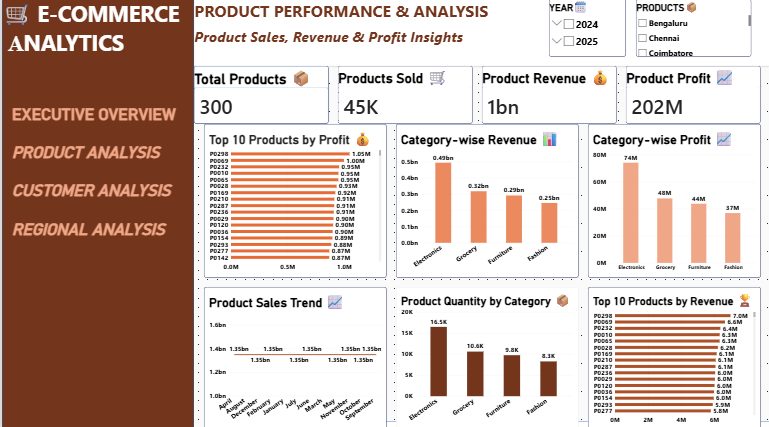

Layout of this report page (visuals, bound fields, positions):
{"tool":"powerbi","page":{"name":"PRODUCT ANALYSIS   ","canvas":[2560,1440],"ordinal":2},"visuals":[{"type":"shape","box":[0,0,640,1440],"z":0},{"type":"textbox","box":[0,0,800,320],"z":1000},{"type":"shape","title":"PRODUCT ANALYSIS","box":[32,480,608,64],"z":2000},{"type":"shape","title":"CUSTOMER ANALYSIS","box":[32,608,640,64],"z":3000},{"type":"shape","title":"REGIONAL ANALYSIS","box":[32,736,608,64],"z":4000},{"type":"shape","title":"EXECUTIVE OVERVIEW","box":[32,352,608,64],"z":5000},{"type":"textbox","box":[100,100,300,300],"z":6000},{"type":"shape","box":[768,1408,1792,32],"z":7000},{"type":"textbox","box":[640,0,1920,224],"z":8000},{"type":"slicer","title":"YEAR🗓️","fields":{"Values":["Calendar.Year","Calendar.Quarter","Calendar.Month"]},"box":[1824,0,256,192],"z":9000},{"type":"slicer","title":"PRODUCTS📦","fields":{"Values":["Customers.City"]},"box":[2112,0,384,192],"z":10000},{"type":"cardVisual","title":"Total Products 📦","fields":{"Data":["Products.Total Products"]},"box":[640,224,448,192],"z":11000},{"type":"cardVisual","title":"Products Sold 🛒","fields":{"Data":["Products.Products Sold"]},"box":[1120,224,448,192],"z":12000},{"type":"cardVisual","title":"Product Revenue 💰","fields":{"Data":["Products.Product Revenue"]},"box":[1600,224,448,192],"z":13000},{"type":"cardVisual","title":"Product Profit 📈","fields":{"Data":["Order_Items.Total Profit"]},"box":[2080,224,448,192],"z":14000},{"type":"clusteredBarChart","title":"Top 10 Products by Profit 💰","fields":{"Category":["Products.ProductID"],"Y":["Products.Product Profit"]},"box":[672,416,608,512],"z":15000},{"type":"clusteredColumnChart","title":"Category-wise Revenue 📊","fields":{"Category":["Products.Category"],"Y":["Products.Product Revenue"]},"box":[1312,416,608,512],"z":16000},{"type":"clusteredColumnChart","title":"Category-wise Profit 📈","fields":{"Category":["Products.Category"],"Y":["Products.Product Profit"]},"box":[1952,416,576,512],"z":17000},{"type":"lineChart","title":"Product Sales Trend 📈","fields":{"Category":["Calendar.Month"],"Y":["Products.Product Revenue"]},"box":[672,960,608,480],"z":18000},{"type":"clusteredBarChart","title":"Top 10 Products by Revenue 🏆","fields":{"Category":["Products.ProductID"],"Y":["Products.Product Revenue"]},"box":[1952,960,576,480],"z":19000},{"type":"clusteredColumnChart","title":"Product Quantity by Category 📦","fields":{"Category":["Products.Category"],"Y":["Products.Products Sold"]},"box":[1312,960,608,480],"z":20000}]}

Visuals, with their boxes in screenshot pixels (x1, y1, x2, y2), scaled from the page's 2560x1440 canvas onto the 769x427 screenshot:
shape: pyautogui.locateOnScreen(0, 0, 192, 426)
textbox: pyautogui.locateOnScreen(0, 0, 240, 95)
"PRODUCT ANALYSIS" shape: pyautogui.locateOnScreen(10, 142, 192, 161)
"CUSTOMER ANALYSIS" shape: pyautogui.locateOnScreen(10, 180, 202, 199)
"REGIONAL ANALYSIS" shape: pyautogui.locateOnScreen(10, 218, 192, 237)
"EXECUTIVE OVERVIEW" shape: pyautogui.locateOnScreen(10, 104, 192, 123)
textbox: pyautogui.locateOnScreen(30, 30, 120, 119)
shape: pyautogui.locateOnScreen(231, 418, 768, 426)
textbox: pyautogui.locateOnScreen(192, 0, 768, 66)
"YEAR🗓️" slicer: pyautogui.locateOnScreen(548, 0, 625, 57)
"PRODUCTS📦" slicer: pyautogui.locateOnScreen(634, 0, 750, 57)
"Total Products 📦" cardVisual: pyautogui.locateOnScreen(192, 66, 327, 123)
"Products Sold 🛒" cardVisual: pyautogui.locateOnScreen(336, 66, 471, 123)
"Product Revenue 💰" cardVisual: pyautogui.locateOnScreen(481, 66, 615, 123)
"Product Profit 📈" cardVisual: pyautogui.locateOnScreen(625, 66, 759, 123)
"Top 10 Products by Profit 💰" clusteredBarChart: pyautogui.locateOnScreen(202, 123, 384, 275)
"Category-wise Revenue 📊" clusteredColumnChart: pyautogui.locateOnScreen(394, 123, 577, 275)
"Category-wise Profit 📈" clusteredColumnChart: pyautogui.locateOnScreen(586, 123, 759, 275)
"Product Sales Trend 📈" lineChart: pyautogui.locateOnScreen(202, 285, 384, 426)
"Top 10 Products by Revenue 🏆" clusteredBarChart: pyautogui.locateOnScreen(586, 285, 759, 426)
"Product Quantity by Category 📦" clusteredColumnChart: pyautogui.locateOnScreen(394, 285, 577, 426)
